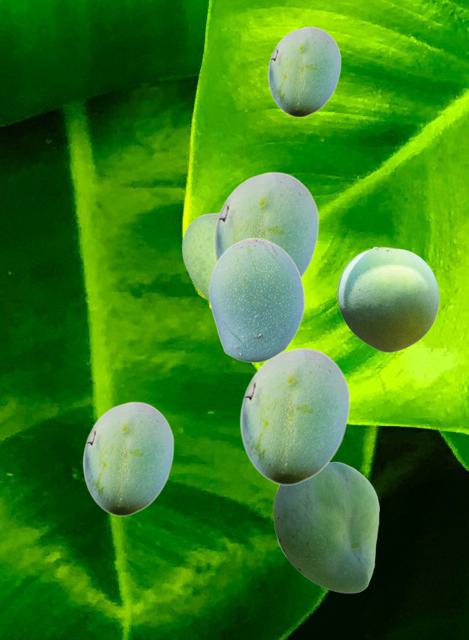green_mango: (239, 347, 349, 484), (273, 461, 378, 592), (208, 237, 304, 362), (213, 171, 318, 278), (337, 246, 438, 351), (82, 401, 173, 515), (267, 26, 340, 116), (182, 212, 218, 301)
